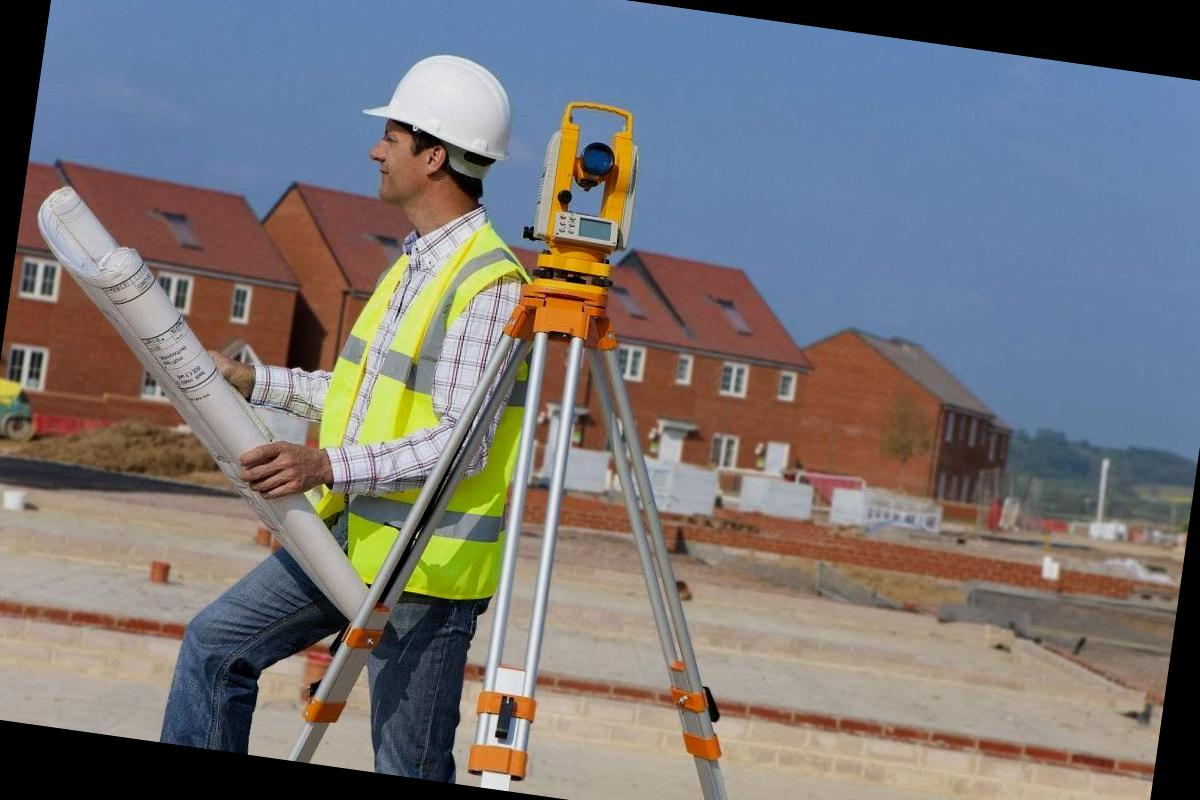helmet: (354, 39, 528, 186)
person: (220, 26, 564, 784)
